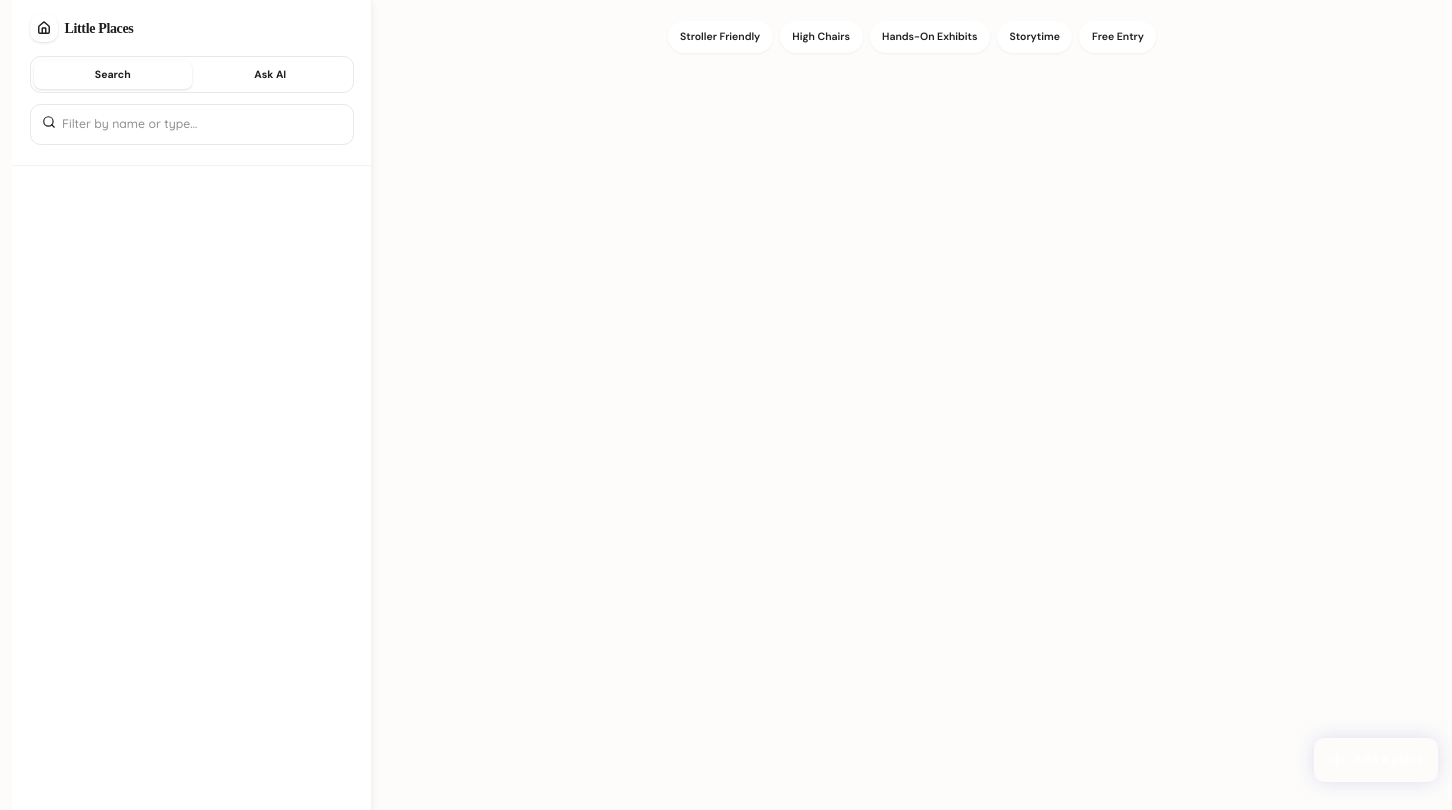
it: BrowseLayout › selecting a feature chip filters the place list
This screenshot has width=1452, height=810.
Click the button "Stroller Friendly" at [720, 37], box [668,21,773,53]
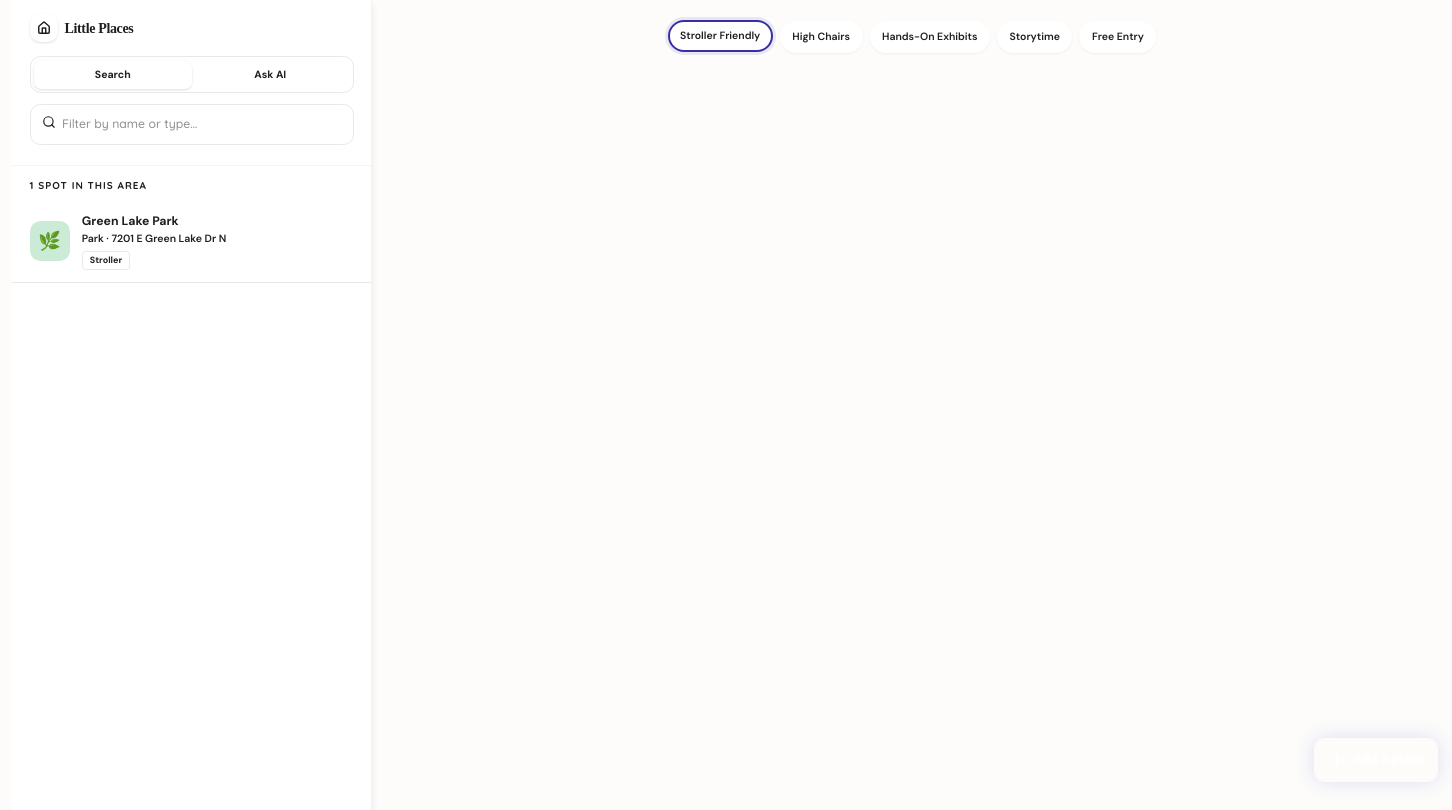
Check: the text "Green Lake Park" is shown, box [82,212,179,228]
